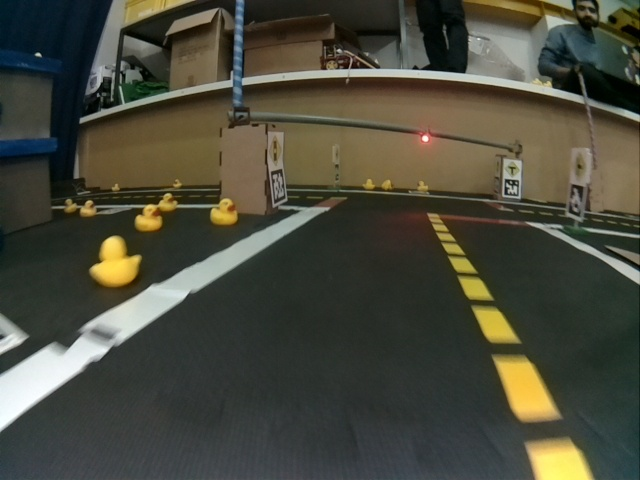Duckie: (89, 243, 139, 288), (210, 200, 239, 227), (137, 206, 162, 230), (81, 200, 96, 217), (161, 195, 176, 211), (63, 199, 77, 213), (364, 179, 374, 188), (173, 180, 182, 189), (382, 181, 391, 190), (417, 181, 427, 189)
Intersection sign: (572, 155, 588, 181), (506, 161, 520, 177)
QR code: (270, 169, 286, 203), (568, 188, 584, 217), (504, 180, 520, 196)
Signal sign: (270, 136, 283, 164)
Traffic light: (421, 134, 431, 144)
